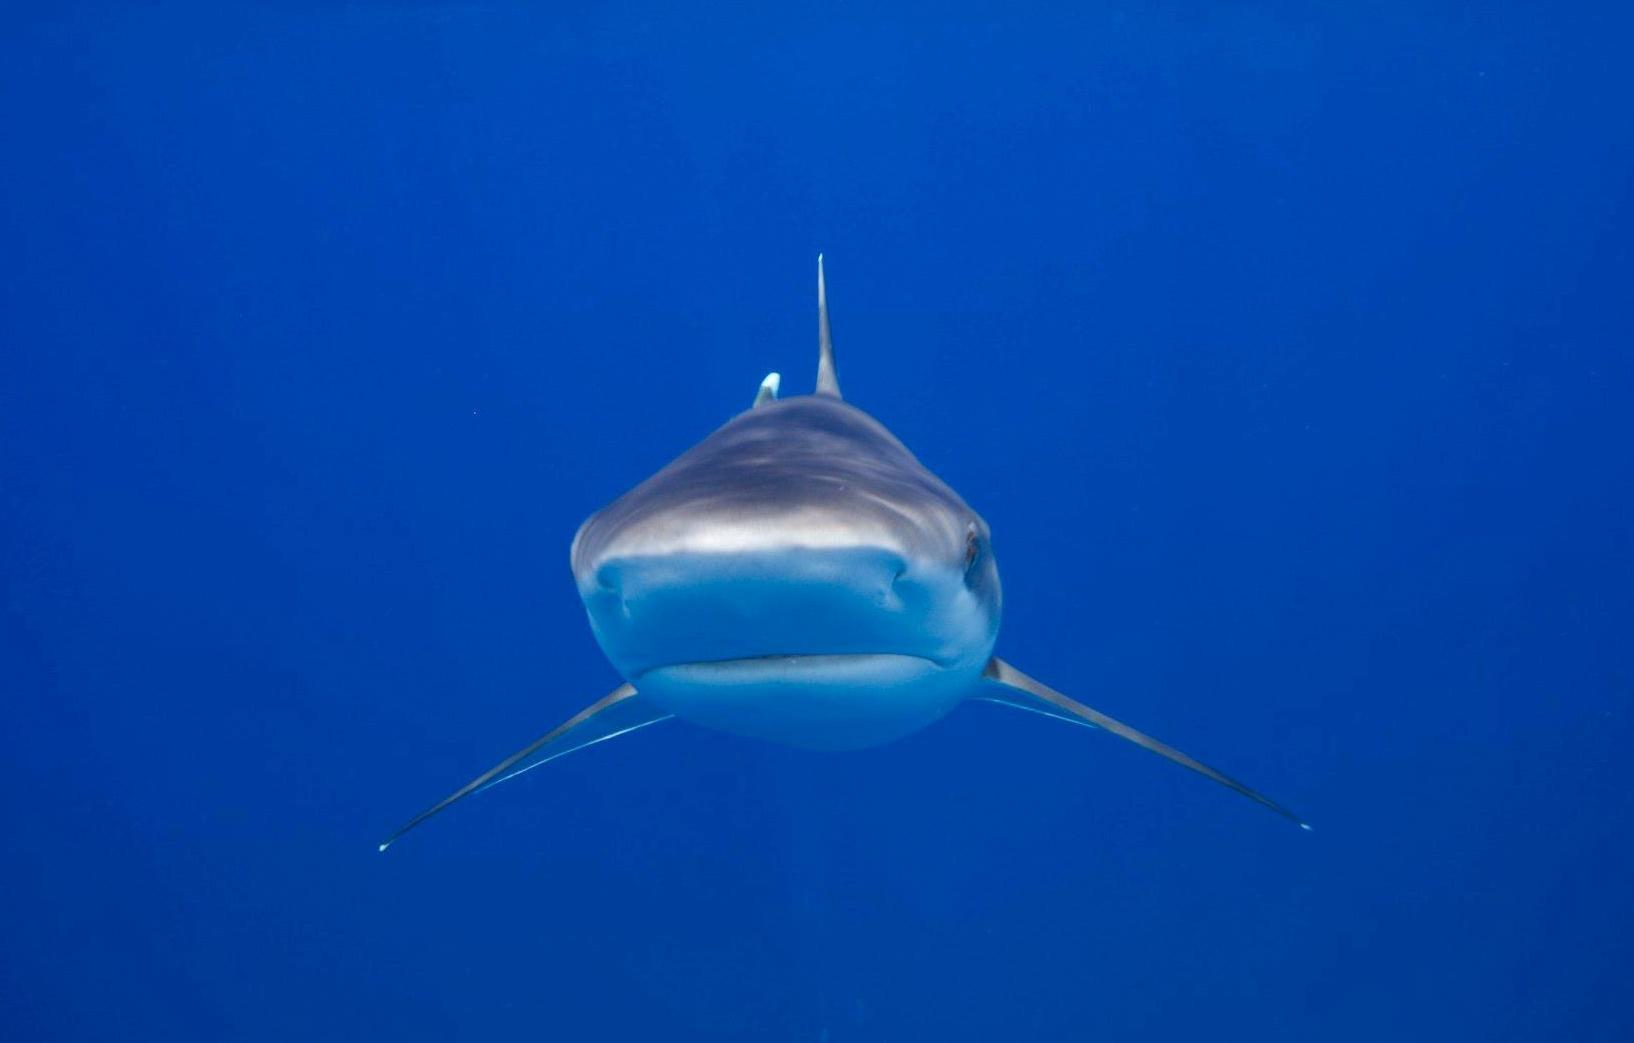Fish: (337, 225, 1330, 863)
